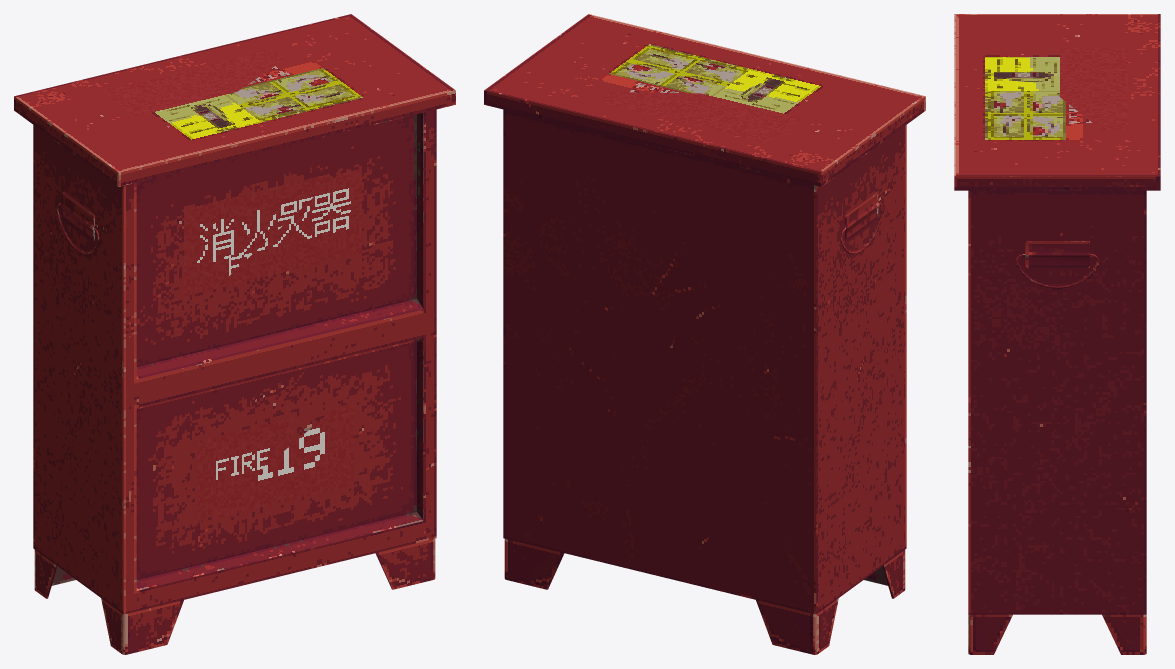
The model's file is fire_box.glb.
3 views of the same model, side by side, from view 1: azimuth 30°, elevation 25°; view 2: azimuth 150°, elevation 25°; view 3: azimuth 270°, elevation 25° (orthographic).
Visible parts, largest first — view 1: mesh; view 2: mesh; view 3: mesh.
Part boxes in pixels (bbox=[...]): mesh: bbox=[14, 14, 455, 654]; mesh: bbox=[484, 14, 925, 654]; mesh: bbox=[954, 14, 1160, 654].
Bounding box in the file's own units: 0.4314 × 0.6 × 0.2314.
1 material, 1 textured.
